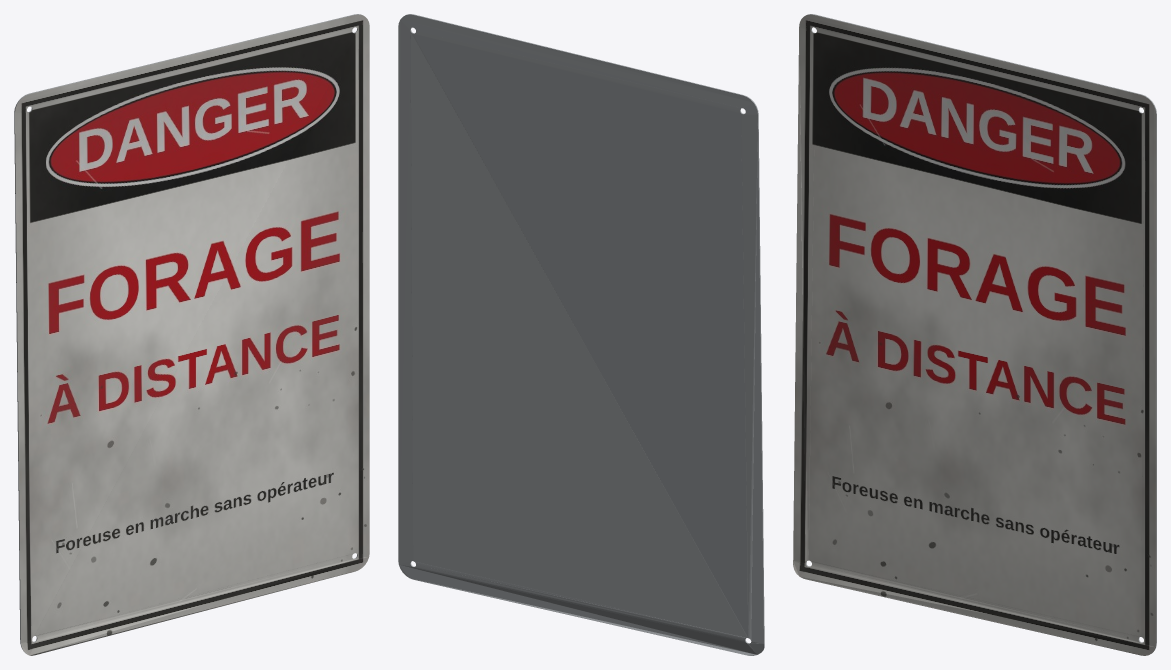
Rendered from SM_Affiche_Forage_Distance.glb.
3 renders of one model, left to right at view 1: azimuth 30°, elevation 25°; view 2: azimuth 150°, elevation 25°; view 3: azimuth 330°, elevation 25°, orthographic.
Visible parts, largest first — view 1: SM_Affiche_Forage_Distance; view 2: SM_Affiche_Forage_Distance; view 3: SM_Affiche_Forage_Distance.
Part boxes in pixels (box(x1,y1,x2,y2)): SM_Affiche_Forage_Distance: box(14, 14, 369, 655); SM_Affiche_Forage_Distance: box(398, 14, 764, 655); SM_Affiche_Forage_Distance: box(793, 14, 1156, 655).
Size of the model in its own units: 0.3048 by 0.4572 by 0.0118.
Materials: 2 (1 with a texture image).
